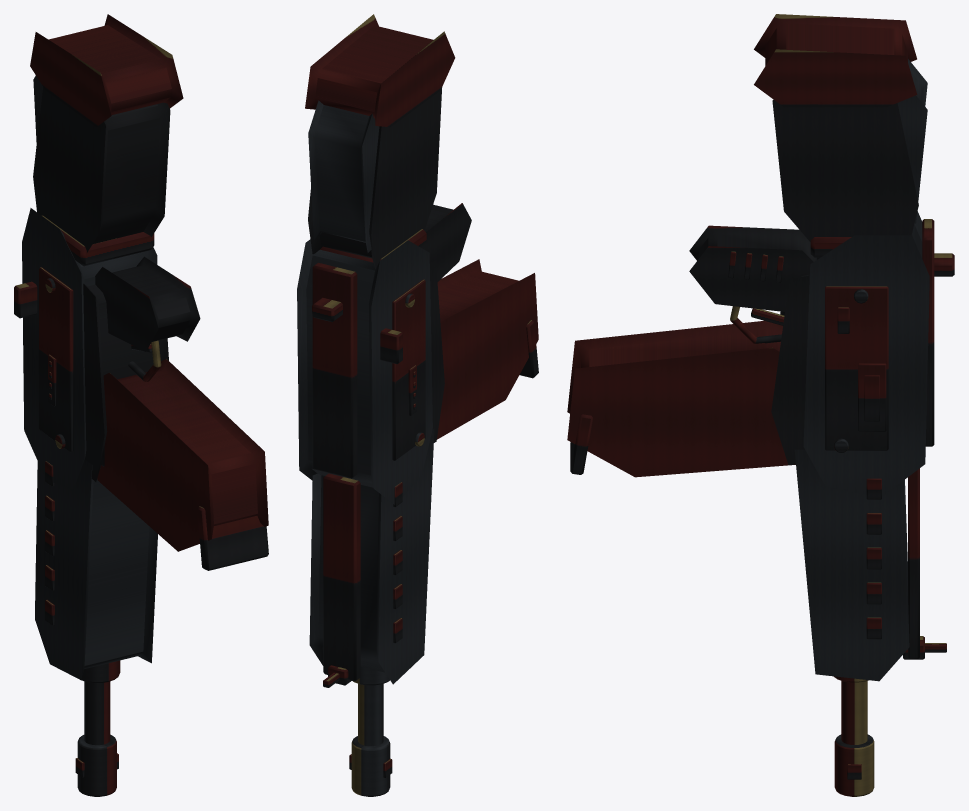
Rendered from BLIKK_AR4_RIFLE_V3_1.glb.
The picture shows the model from 3 angles, left to right: view 1: azimuth 30°, elevation 25°; view 2: azimuth 150°, elevation 25°; view 3: azimuth 270°, elevation 25°; orthographic projection. The views are drawn at different scales.
Visible parts, largest first — view 1: Magazine, Handguard, StockBody, StockPad, ReceiverUpper, PistolGrip, ReceiverLower, ReceiverPlate_-1, MagazineFloorplate, MuzzleBrake, RearTrunnion, Barrel (+3 smaller); view 2: ReceiverUpper, Handguard, Magazine, StockPad, StockBody, ReceiverTopRib, StockCheek, HandguardTopSpine, ReceiverPlate_-1, PistolGrip, MuzzleBrake, ReceiverLower (+6 smaller); view 3: Magazine, ReceiverUpper, Handguard, StockBody, StockPad, ReceiverPlate_1, PistolGrip, ReceiverLower, HandguardTopSpine, StockCheek, MuzzleBrake, ReceiverTopRib (+4 smaller).
Boxes of the visible parts, bbox=[...] form: Magazine: bbox=[97, 359, 268, 551]; Handguard: bbox=[35, 459, 157, 680]; StockBody: bbox=[33, 87, 170, 252]; StockPad: bbox=[30, 14, 183, 126]; ReceiverUpper: bbox=[22, 208, 157, 489]; PistolGrip: bbox=[95, 256, 200, 351]; ReceiverLower: bbox=[83, 283, 168, 481]; ReceiverPlate_-1: bbox=[39, 267, 73, 452]; MagazineFloorplate: bbox=[197, 506, 268, 570]; MuzzleBrake: bbox=[77, 734, 116, 796]; RearTrunnion: bbox=[42, 215, 154, 266]; Barrel: bbox=[84, 681, 110, 745]; ReceiverUpper: bbox=[297, 239, 432, 504]; Handguard: bbox=[309, 429, 434, 684]; Magazine: bbox=[437, 259, 538, 439]; StockPad: bbox=[305, 14, 455, 127]; StockBody: bbox=[308, 87, 442, 268]; ReceiverTopRib: bbox=[312, 262, 357, 478]; StockCheek: bbox=[308, 100, 379, 252]; HandguardTopSpine: bbox=[323, 473, 360, 681]; ReceiverPlate_-1: bbox=[392, 279, 425, 460]; PistolGrip: bbox=[423, 203, 471, 281]; MuzzleBrake: bbox=[351, 736, 390, 796]; ReceiverLower: bbox=[429, 260, 444, 442]; Magazine: bbox=[567, 320, 795, 477]; ReceiverUpper: bbox=[803, 211, 929, 496]; Handguard: bbox=[794, 449, 909, 681]; StockBody: bbox=[772, 100, 918, 241]; StockPad: bbox=[754, 14, 917, 107]; ReceiverPlate_1: bbox=[825, 286, 888, 450]; PistolGrip: bbox=[689, 225, 816, 311]; ReceiverLower: bbox=[771, 274, 809, 465]; HandguardTopSpine: bbox=[908, 468, 919, 659]; StockCheek: bbox=[897, 59, 927, 223]; MuzzleBrake: bbox=[834, 734, 874, 796]; ReceiverTopRib: bbox=[922, 219, 934, 446].
Bounding box in the file's own units: 0.535 × 3.82 × 1.76.
4 materials, 4 textured.
